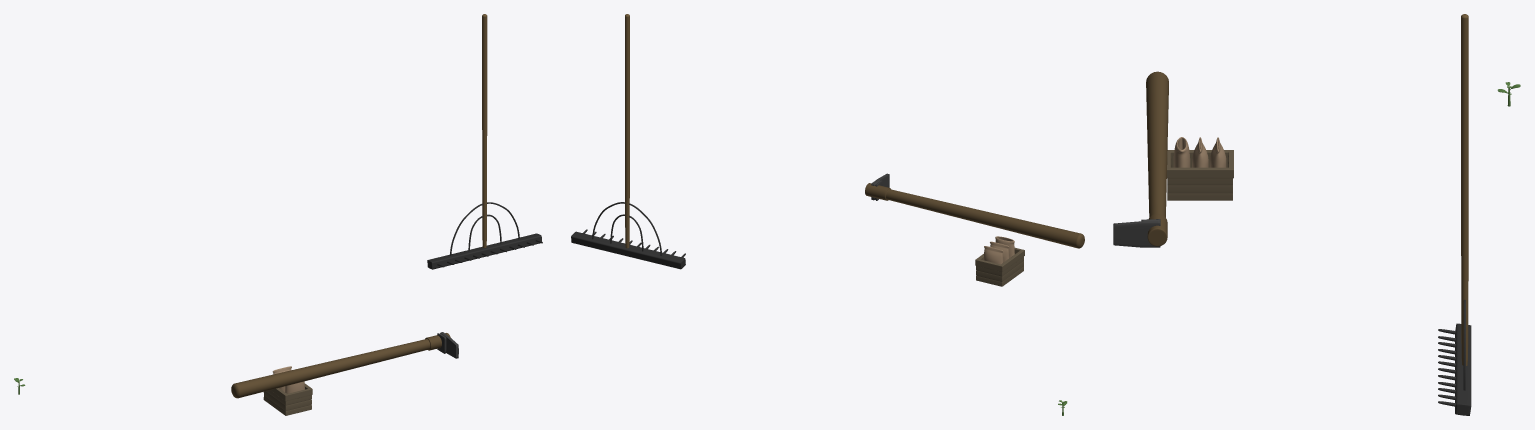
The model's file is sprout.glb.
3 views of the same model, side by side, from view 1: azimuth 30°, elevation 25°; view 2: azimuth 150°, elevation 25°; view 3: azimuth 270°, elevation 25° (orthographic). The views are drawn at different scales.
Visible parts, largest first — view 1: hoe, rake, seed_bags; view 2: hoe, rake, seed_bags; view 3: rake, hoe, seed_bags.
Boxes of the visible parts, x1,y1,x2,y2 form: hoe: (231,332,458,398); rake: (427,14,542,269); seed_bags: (263,366,312,415); hoe: (865,173,1084,248); rake: (571,14,685,269); seed_bags: (975,236,1024,286); rake: (1438,14,1471,415); hoe: (1113,71,1168,247); seed_bags: (1167,137,1233,200).
Size of the model in its own units: 32.82 by 17.29 by 15.13.
